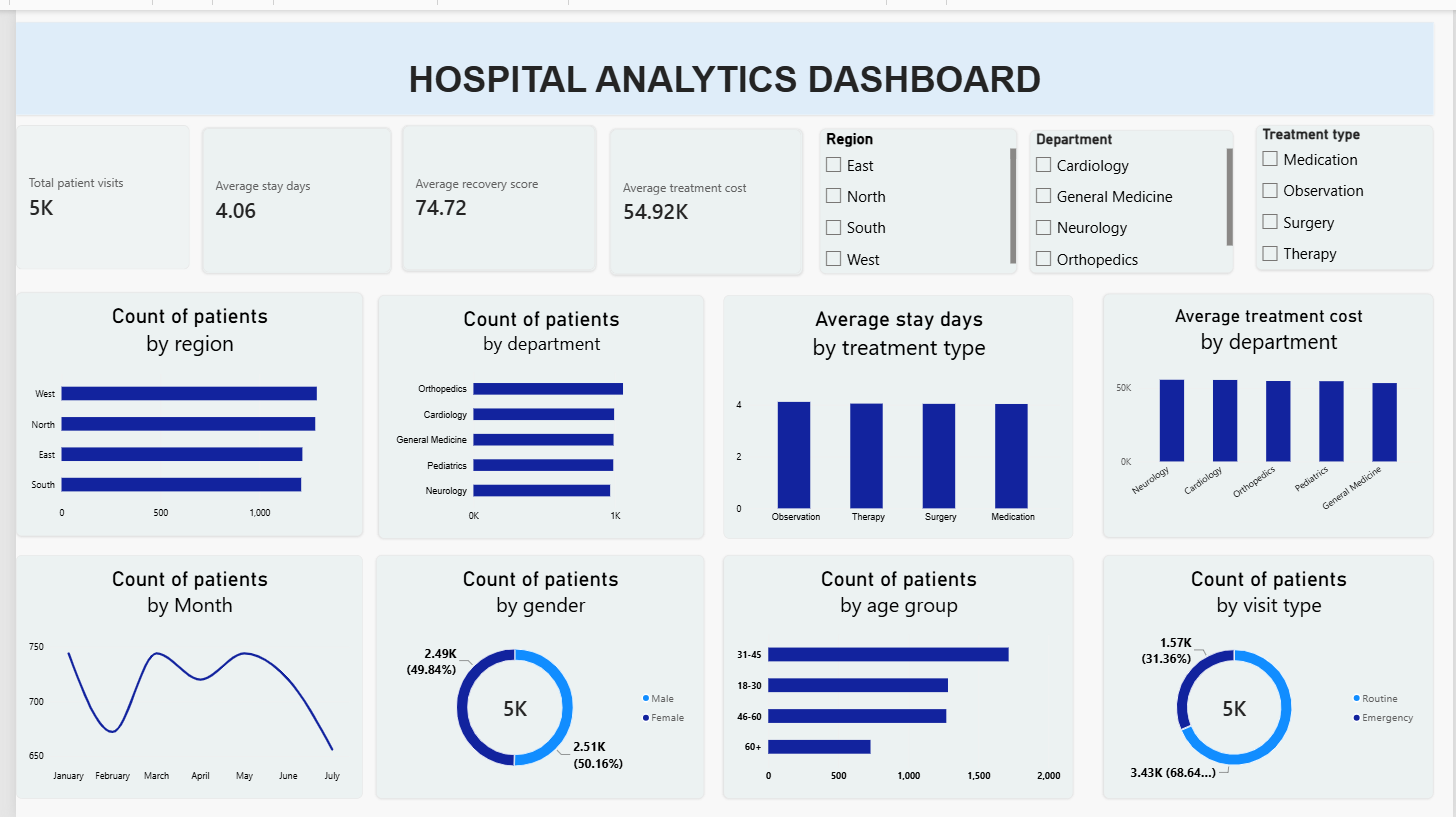

The dashboard page shown, as its layout file describes it:
{"tool":"powerbi","page":{"name":"Page 1","canvas":[1920,1080],"ordinal":0},"visuals":[{"type":"cardVisual","fields":{"Data":["Count(healthcare_patient_analytics_se.patient_id)"]},"box":[0,153.6,232.6,193.5],"z":0},{"type":"cardVisual","fields":{"Data":["Avg(healthcare_patient_analytics_se.length_of_stay_days)"]},"box":[249.1,156.4,253.2,195.5],"z":1},{"type":"cardVisual","fields":{"Data":["Avg(healthcare_patient_analytics_se.treatment_cost)"]},"box":[792.5,158.5,257.3,195.5],"z":2},{"type":"cardVisual","fields":{"Data":["Avg(healthcare_patient_analytics_se.recovery_score)"]},"box":[516.6,154.4,259.3,195.5],"z":3},{"type":"clusteredBarChart","title":"Count of patients","fields":{"Category":["healthcare_patient_analytics_se.department"],"Y":["CountNonNull(healthcare_patient_analytics_se.patient_id)"]},"box":[484.2,380.7,434.3,325.2],"z":4},{"type":"lineChart","title":"Count of patients","fields":{"Category":["healthcare_patient_analytics_se.visit_date.Variation.Date Hierarchy.Month"],"Y":["CountNonNull(healthcare_patient_analytics_se.patient_id)"]},"box":[0,728.6,463.1,325.2],"z":5},{"type":"clusteredBarChart","title":"Count of patients","fields":{"Category":["healthcare_patient_analytics_se.region"],"Y":["CountNonNull(healthcare_patient_analytics_se.patient_id)"]},"box":[0,377.4,463.1,325.2],"z":6},{"type":"donutChart","title":"Count of patients","fields":{"Category":["healthcare_patient_analytics_se.gender"],"Y":["CountNonNull(healthcare_patient_analytics_se.patient_id)"]},"box":[481.6,728.6,438.4,325.2],"z":7},{"type":"columnChart","title":"Average  treatment cost","fields":{"Category":["healthcare_patient_analytics_se.department"],"Y":["Avg(healthcare_patient_analytics_se.treatment_cost)"]},"box":[1452.7,379,440.5,325.2],"z":8},{"type":"clusteredBarChart","title":"Count of patients","fields":{"Category":["healthcare_patient_analytics_se.age_group","healthcare_patient_analytics_se.readmission_risk"],"Y":["CountNonNull(healthcare_patient_analytics_se.patient_id)"]},"box":[944.8,728.6,467.2,325.2],"z":9},{"type":"clusteredColumnChart","title":"Average stay days","fields":{"Category":["healthcare_patient_analytics_se.treatment_type"],"Y":["Avg(healthcare_patient_analytics_se.length_of_stay_days)"]},"box":[945.1,380.7,467.2,325.2],"z":10},{"type":"donutChart","title":"Count of patients","fields":{"Category":["healthcare_patient_analytics_se.visit_type"],"Y":["CountNonNull(healthcare_patient_analytics_se.patient_id)"]},"box":[1453.2,728.6,440.5,325.2],"z":11},{"type":"slicer","fields":{"Values":["healthcare_patient_analytics_se.department"]},"box":[1354.4,160.5,271.7,191.4],"z":12},{"type":"slicer","fields":{"Values":["healthcare_patient_analytics_se.region"]},"box":[1074.4,158.5,263.5,193.5],"z":13},{"type":"slicer","fields":{"Values":["healthcare_patient_analytics_se.treatment_type"]},"box":[1657,154.4,236.7,193.5],"z":14},{"type":"textbox","box":[0,16.7,1893.5,123.6],"z":16}]}

Visuals, with their boxes in screenshot pixels (x1, y1, x2, y2), scaled from the page's 1920x1080 canvas onto the 1456x817 screenshot:
cardVisual - Count(healthcare_patient_analytics_se.patient_id): box(0, 116, 176, 263)
cardVisual - Avg(healthcare_patient_analytics_se.length_of_stay_days): box(189, 118, 381, 266)
cardVisual - Avg(healthcare_patient_analytics_se.treatment_cost): box(601, 120, 796, 268)
cardVisual - Avg(healthcare_patient_analytics_se.recovery_score): box(392, 117, 588, 265)
"Count of patients" clusteredBarChart: box(367, 288, 697, 534)
"Count of patients" lineChart: box(0, 551, 351, 797)
"Count of patients" clusteredBarChart: box(0, 285, 351, 532)
"Count of patients" donutChart: box(365, 551, 698, 797)
"Average  treatment cost" columnChart: box(1102, 287, 1436, 533)
"Count of patients" clusteredBarChart: box(716, 551, 1071, 797)
"Average stay days" clusteredColumnChart: box(717, 288, 1071, 534)
"Count of patients" donutChart: box(1102, 551, 1436, 797)
slicer - healthcare_patient_analytics_se.department: box(1027, 121, 1233, 266)
slicer - healthcare_patient_analytics_se.region: box(815, 120, 1015, 266)
slicer - healthcare_patient_analytics_se.treatment_type: box(1257, 117, 1436, 263)
textbox: box(0, 13, 1436, 106)
